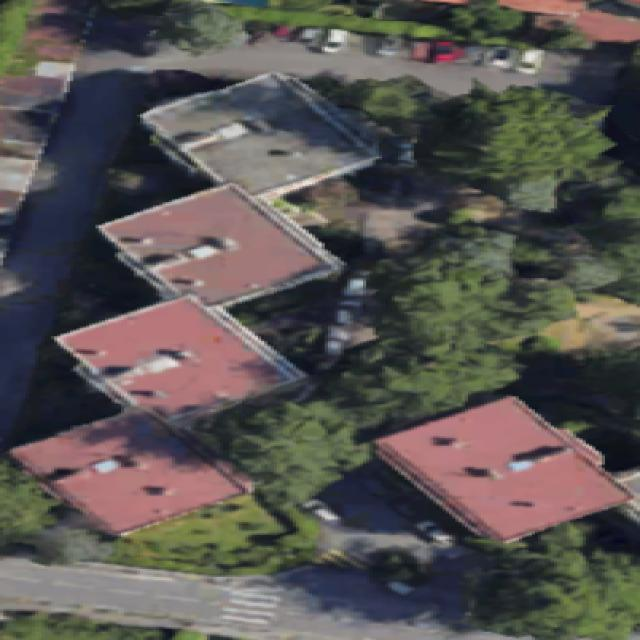immeuble: (373, 368, 630, 569), (53, 267, 302, 448), (140, 47, 386, 229), (105, 157, 348, 333), (8, 383, 248, 558)
